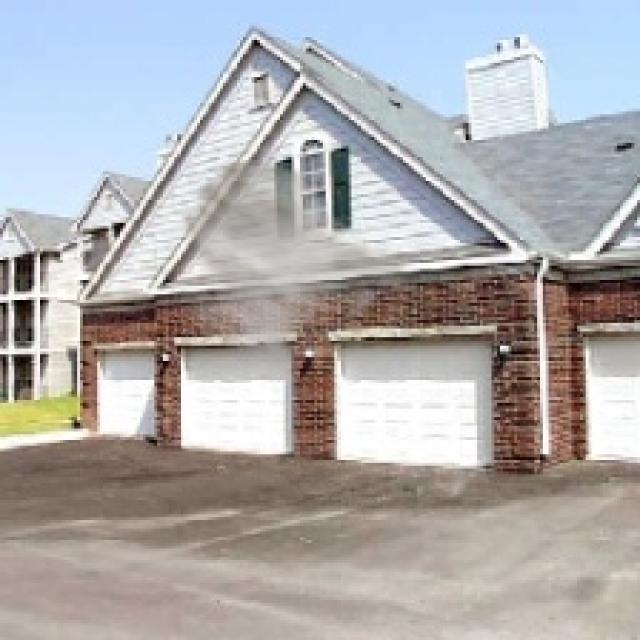Smoke: (160, 140, 420, 369)
